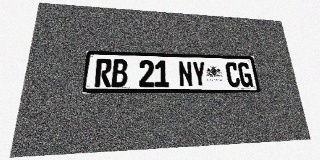1: (154, 60, 169, 87)
2: (139, 60, 154, 87)
B: (111, 59, 128, 87)
C: (225, 62, 241, 87)
G: (237, 62, 253, 87)
N: (178, 61, 193, 87)
R: (94, 59, 112, 87)
Y: (192, 61, 207, 87)
